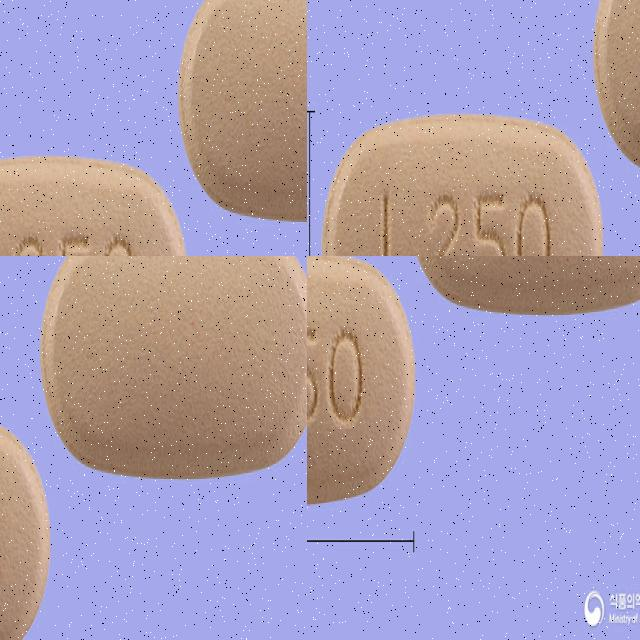Exviera: (182, 0, 307, 239), (0, 113, 197, 256)
Levoby - 500mg: (307, 256, 415, 504)
Shuclari Tab-500mg: (321, 119, 615, 256)
